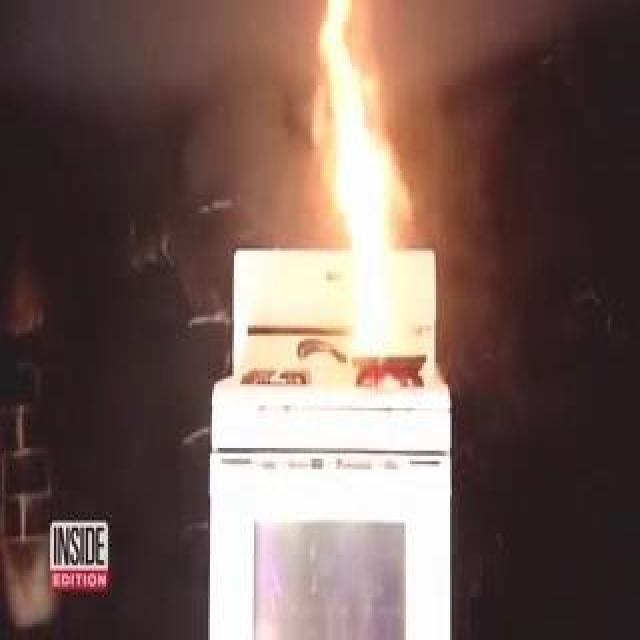Fire: (314, 3, 428, 357)
